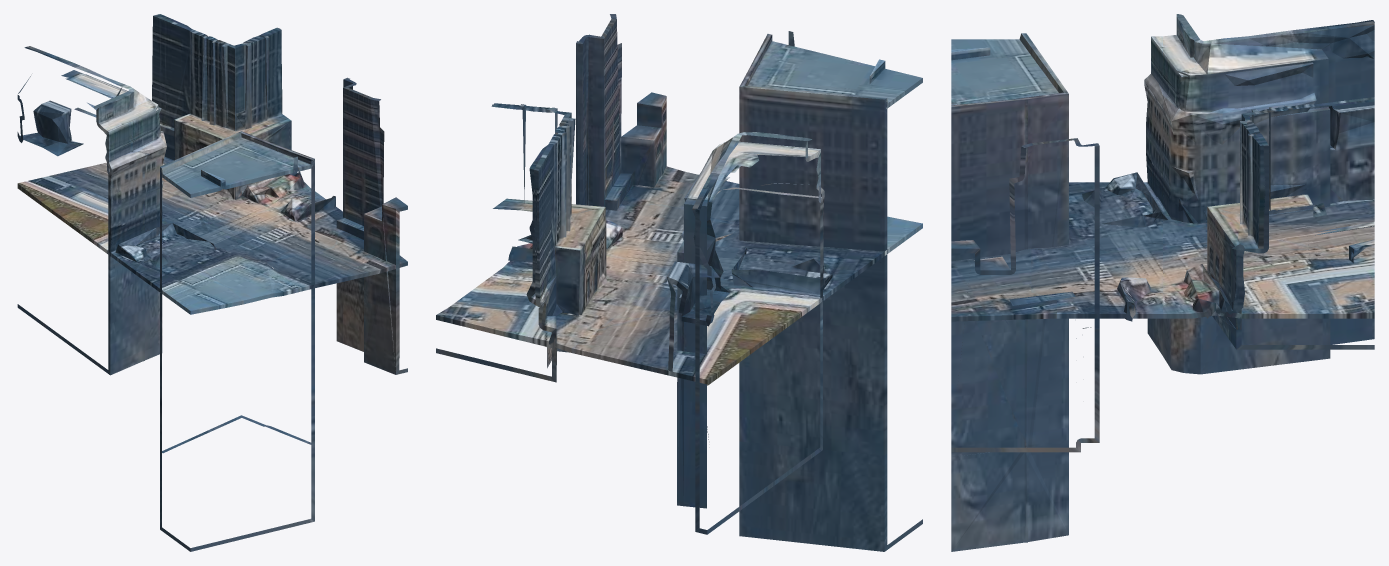
The model's file is chunk_1_9.glb.
3 views of the same model, side by side, from view 1: azimuth 30°, elevation 25°; view 2: azimuth 150°, elevation 25°; view 3: azimuth 270°, elevation 25° (orthographic). The views are drawn at different scales.
Parts seen in each view (by area): view 1: hero-chunk; view 2: hero-chunk; view 3: hero-chunk.
Part boxes in pixels (box(x1,y1,x2,y2)): hero-chunk: box(17, 14, 407, 551); hero-chunk: box(436, 14, 922, 551); hero-chunk: box(951, 14, 1374, 551).
Bounding box in the file's own units: 57.27 × 91.79 × 76.33.
3 materials, 3 textured.
